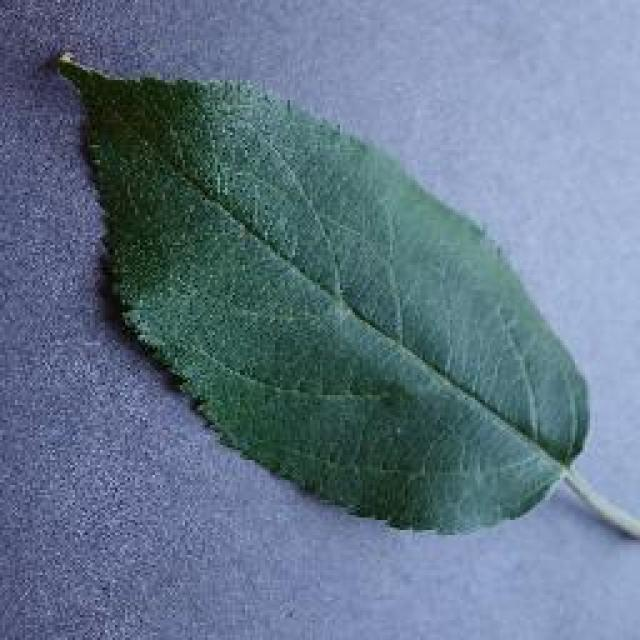apple scab disease: (48, 45, 638, 543)
